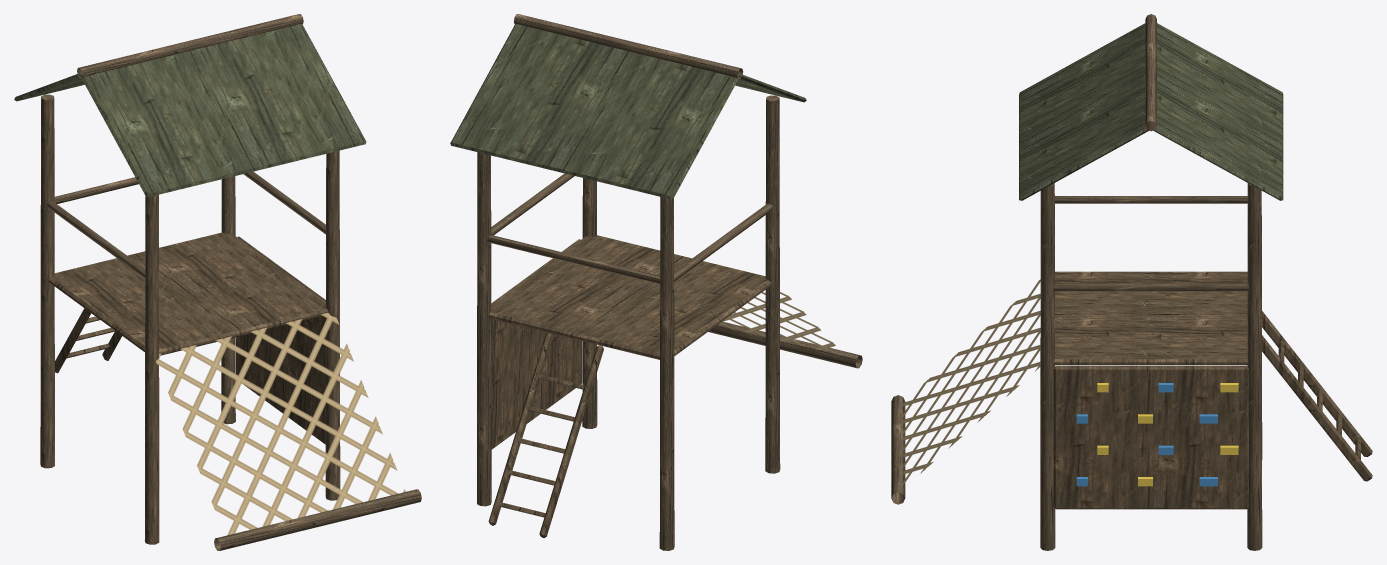
Rendered from climbing-frame.glb.
3 views of the same model, side by side, from view 1: azimuth 30°, elevation 25°; view 2: azimuth 150°, elevation 25°; view 3: azimuth 270°, elevation 25° (orthographic). The views are drawn at different scales.
Visible parts, largest first — view 1: climbing-frame; view 2: climbing-frame; view 3: climbing-frame.
Part boxes in pixels (left/top/right/bottom): climbing-frame: left=14, top=14, right=421, bottom=550; climbing-frame: left=450, top=14, right=862, bottom=550; climbing-frame: left=891, top=14, right=1372, bottom=550.
Bounding box in the file's own units: 2.2 × 4.19 × 4.18.
Materials: 6 (4 with a texture image).
